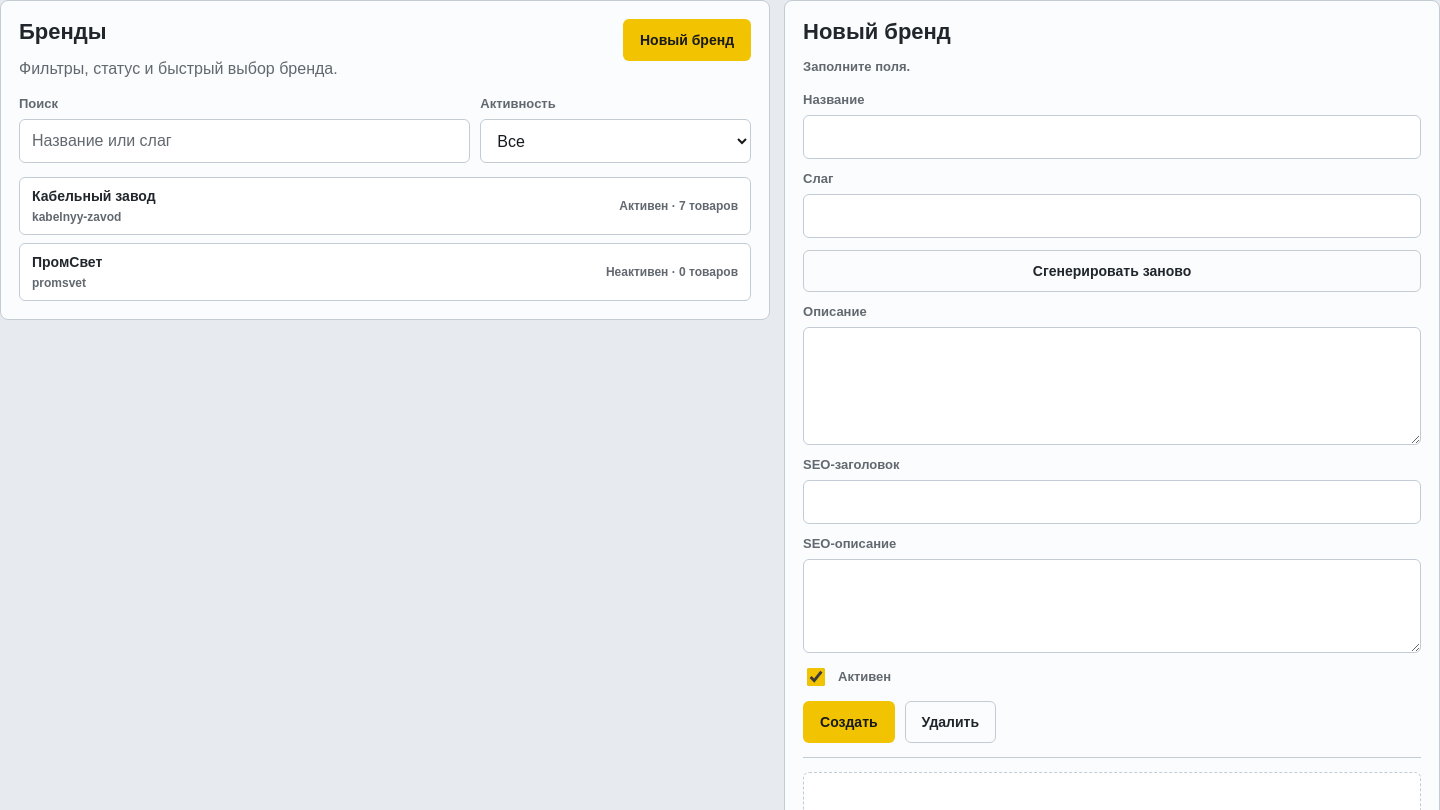
AdminBrandManager › показывает ошибку удаления, если бренд используется товарами
Click the button "Кабельный завод kabelnyy-zavod Активен · 7 товаров". click: point(94, 196)
box: [19,177,751,235]
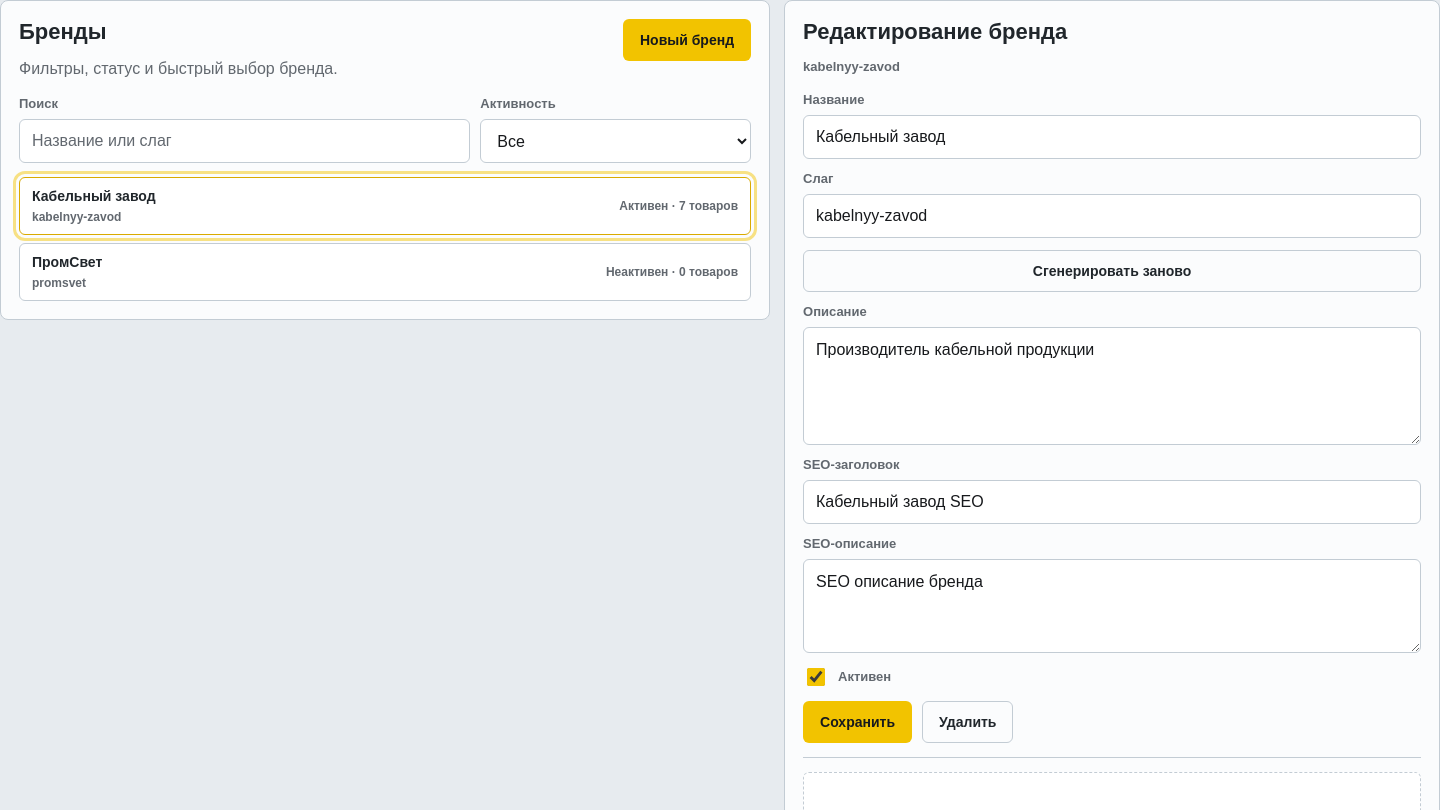
Now the field showing "Кабельный завод" is shown, box [803,114,1421,158]
Click the button "Удалить". click: point(968, 722)
box: [922,700,1014,742]
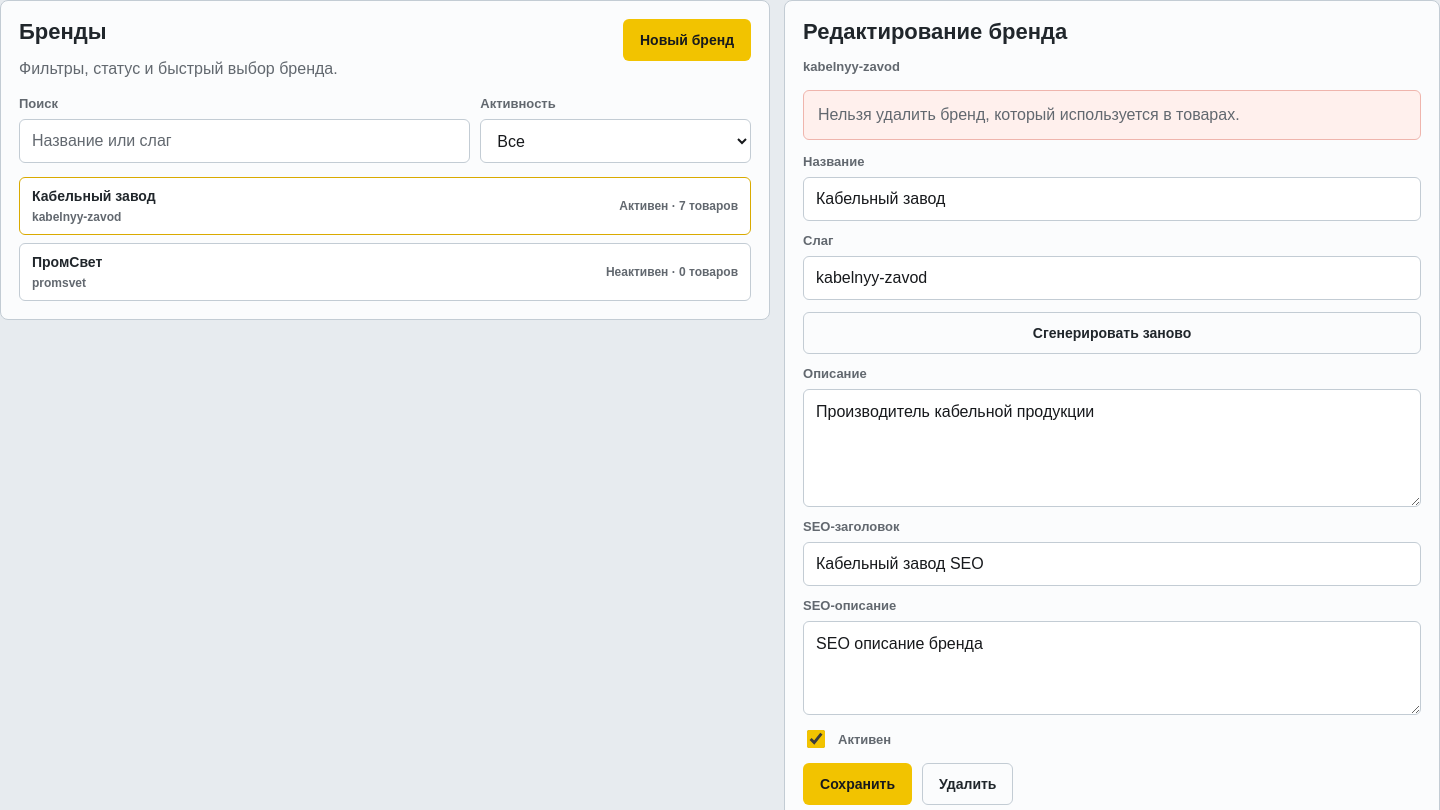
Now the message reads "Нельзя удалить бренд, который используется в товарах.", box [818,106,1240,122]
